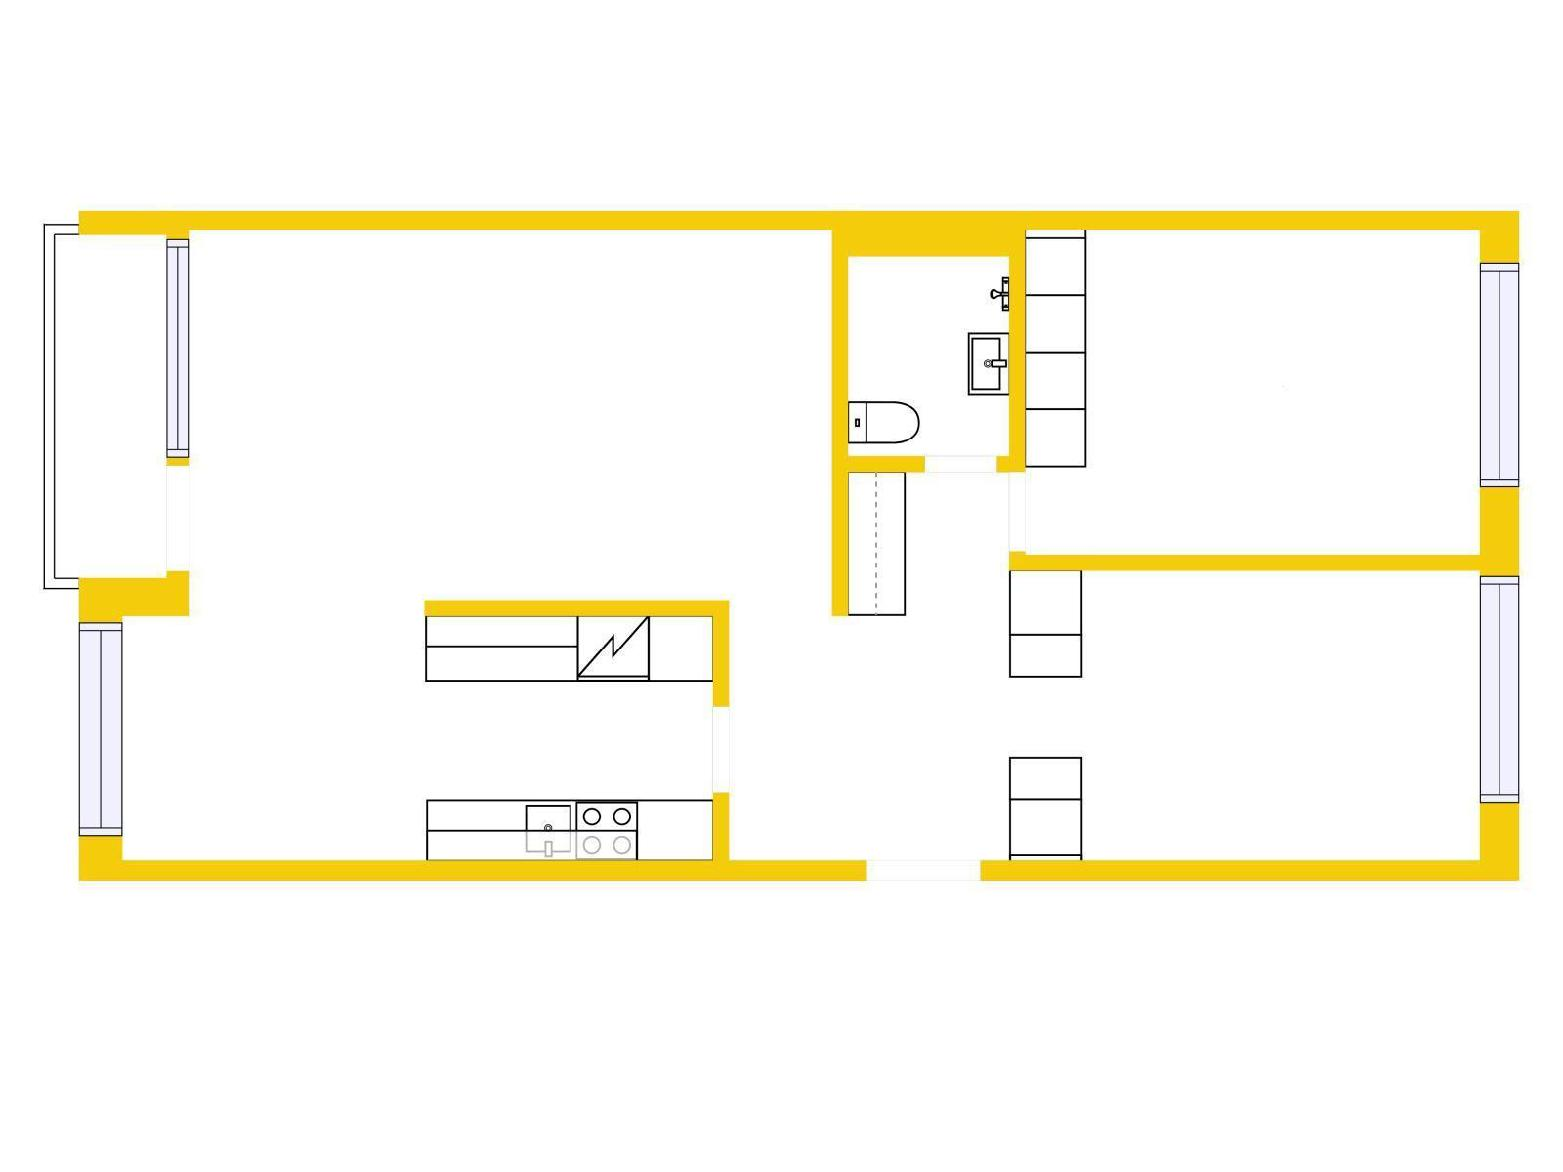door: (162, 463, 192, 572), (1005, 468, 1033, 553), (864, 861, 982, 879), (714, 707, 732, 797), (929, 454, 1001, 469)
window: (79, 623, 123, 833), (1482, 577, 1521, 804), (1478, 263, 1517, 481), (166, 239, 192, 451)
zone: (57, 234, 1476, 859), (1031, 234, 1476, 552), (844, 247, 1005, 457)
